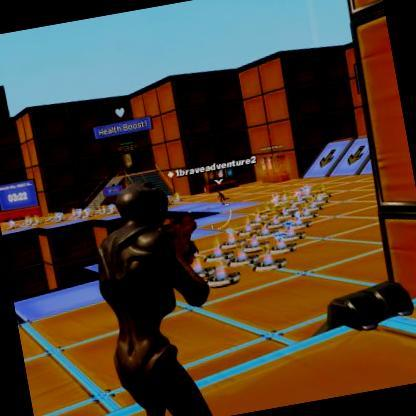person: (76, 170, 229, 416), (212, 190, 230, 208)
